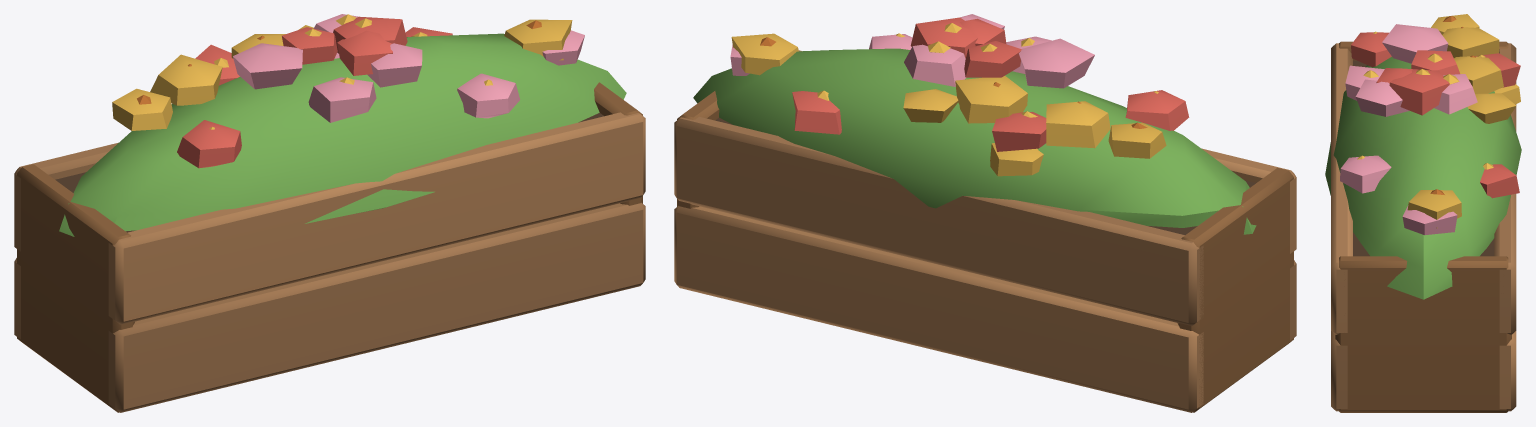
File: flower-planter.glb
3 renders of one model, left to right at view 1: azimuth 30°, elevation 25°; view 2: azimuth 150°, elevation 25°; view 3: azimuth 270°, elevation 25°, orthographic. The views are drawn at different scales.
Parts seen in each view (by area): view 1: flower-planter; view 2: flower-planter; view 3: flower-planter.
Boxes of the visible parts, <box> form: flower-planter: <box>14,14,645,412</box>; flower-planter: <box>674,14,1296,412</box>; flower-planter: <box>1325,14,1521,412</box>.
Size of the model in its own units: 1.28 by 0.6232 by 0.4456.
